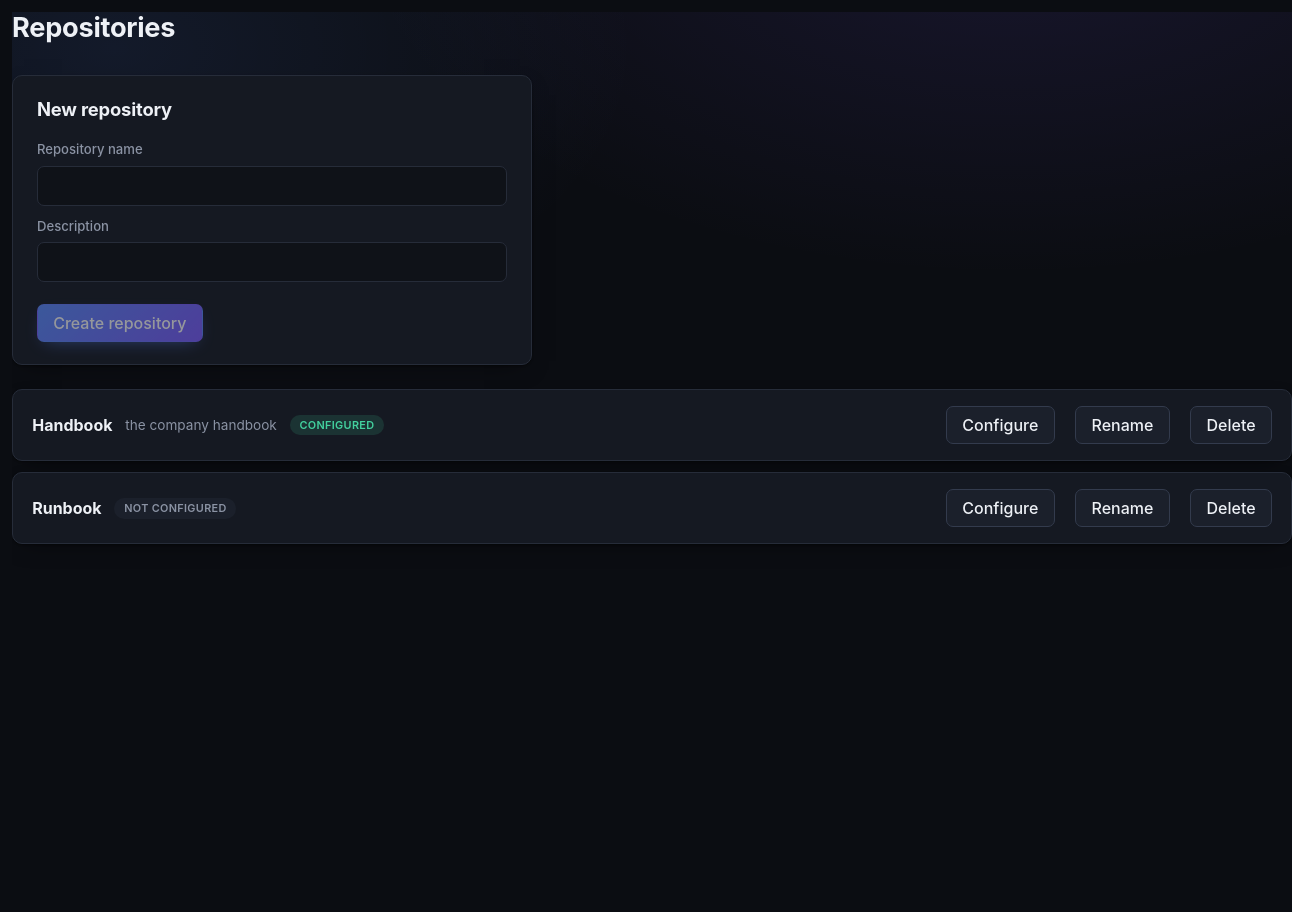
Test: AdminRepositoriesPage › surfaces an error when loading models fails
Click the button "Configure" in the row of "Not configured": point(1000, 508) [946,489,1055,527]
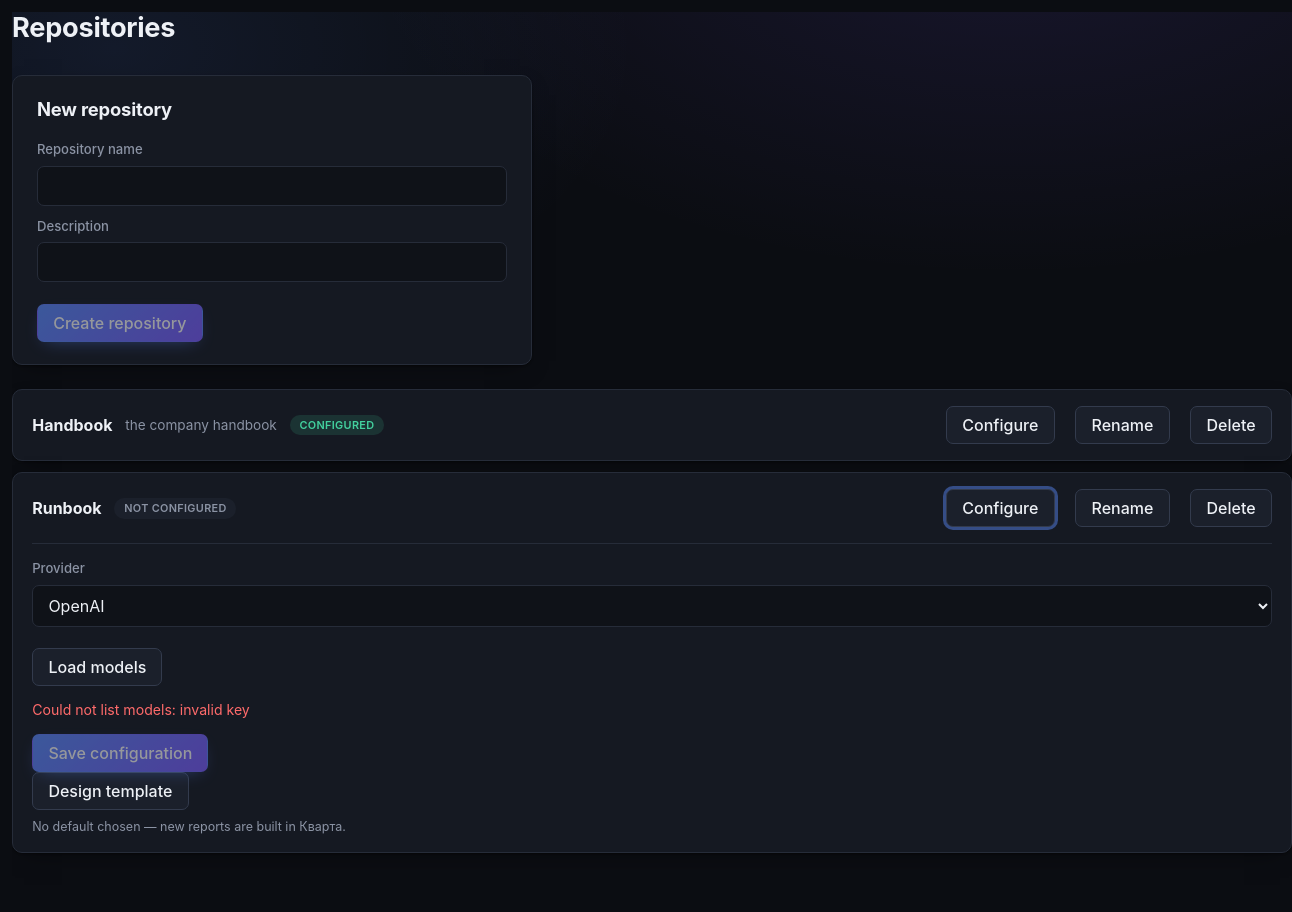
Check: the text "Could not list models: invalid key" is shown, box [32,700,250,718]
